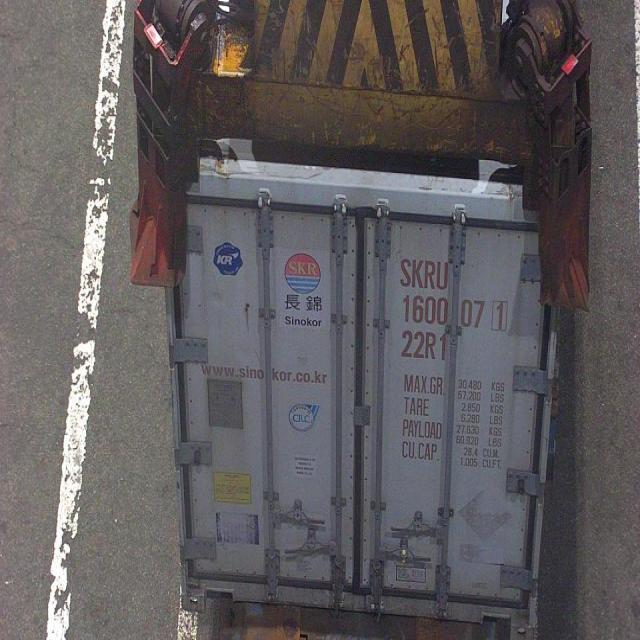ISO: (402, 326, 451, 366)
container_number: (397, 250, 509, 335)
